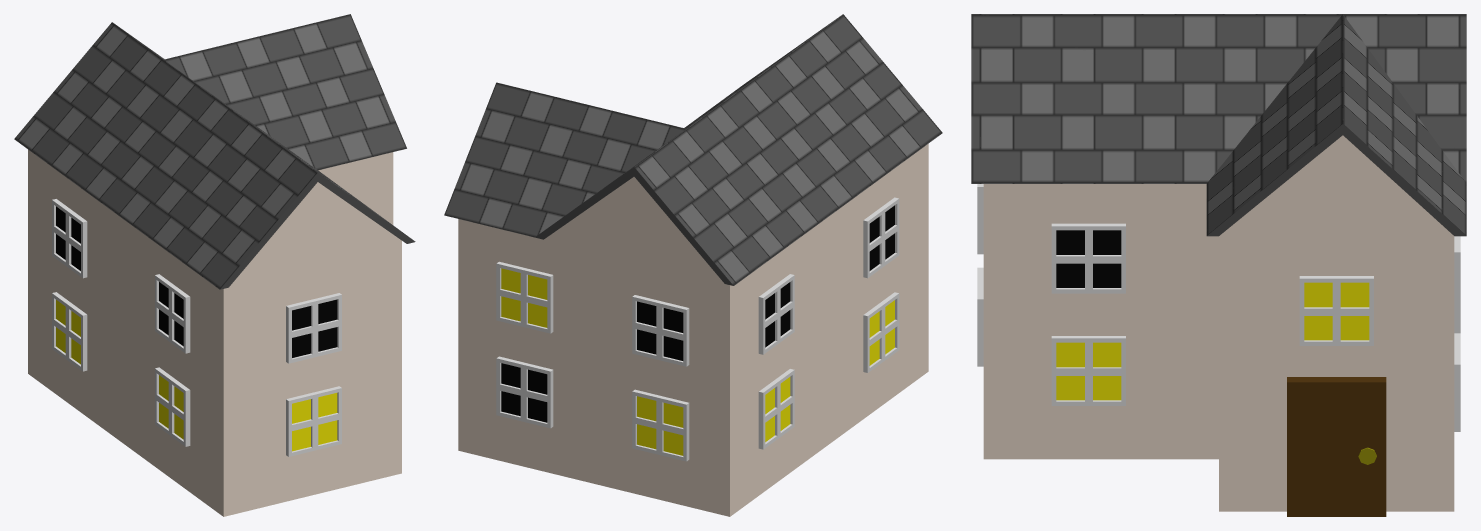
Rendered from house4x4.fbx.
3 views of the same model, side by side, from view 1: azimuth 30°, elevation 25°; view 2: azimuth 150°, elevation 25°; view 3: azimuth 270°, elevation 25° (orthographic). The views are drawn at different scales.
Visible parts, largest first — view 1: house, roof, window5, window4, window10, window12, window13, window11; view 2: house, roof, window7, window8, window9, window6, window10, window12, window13, window11; view 3: house, roof, door, window2, window1, window3, window4, window8, window7.
Boxes of the visible parts, box(x1,y1,x2,y2) form: house: box(28, 149, 401, 516); roof: box(14, 14, 415, 289); window5: box(286, 293, 341, 363); window4: box(286, 386, 341, 456); window10: box(155, 274, 190, 353); window12: box(52, 292, 87, 371); window13: box(52, 199, 87, 278); window11: box(155, 367, 190, 446); house: box(458, 144, 928, 516); roof: box(444, 14, 942, 285); window7: box(496, 261, 553, 333); window8: box(496, 356, 553, 428); window9: box(632, 389, 689, 461); window6: box(632, 295, 689, 366); window10: box(863, 197, 899, 278); window12: box(758, 369, 794, 449); window13: box(758, 274, 794, 354); window11: box(863, 292, 899, 372); house: box(983, 135, 1454, 511); roof: box(971, 14, 1466, 236); door: box(1287, 377, 1386, 516); window2: box(1051, 223, 1125, 293); window1: box(1299, 276, 1373, 345); window3: box(1051, 336, 1125, 405); window4: box(977, 267, 983, 366); window8: box(1454, 333, 1460, 431); window7: box(1454, 236, 1460, 319).
Size of the model in its own units: 323 by 350 by 400.
